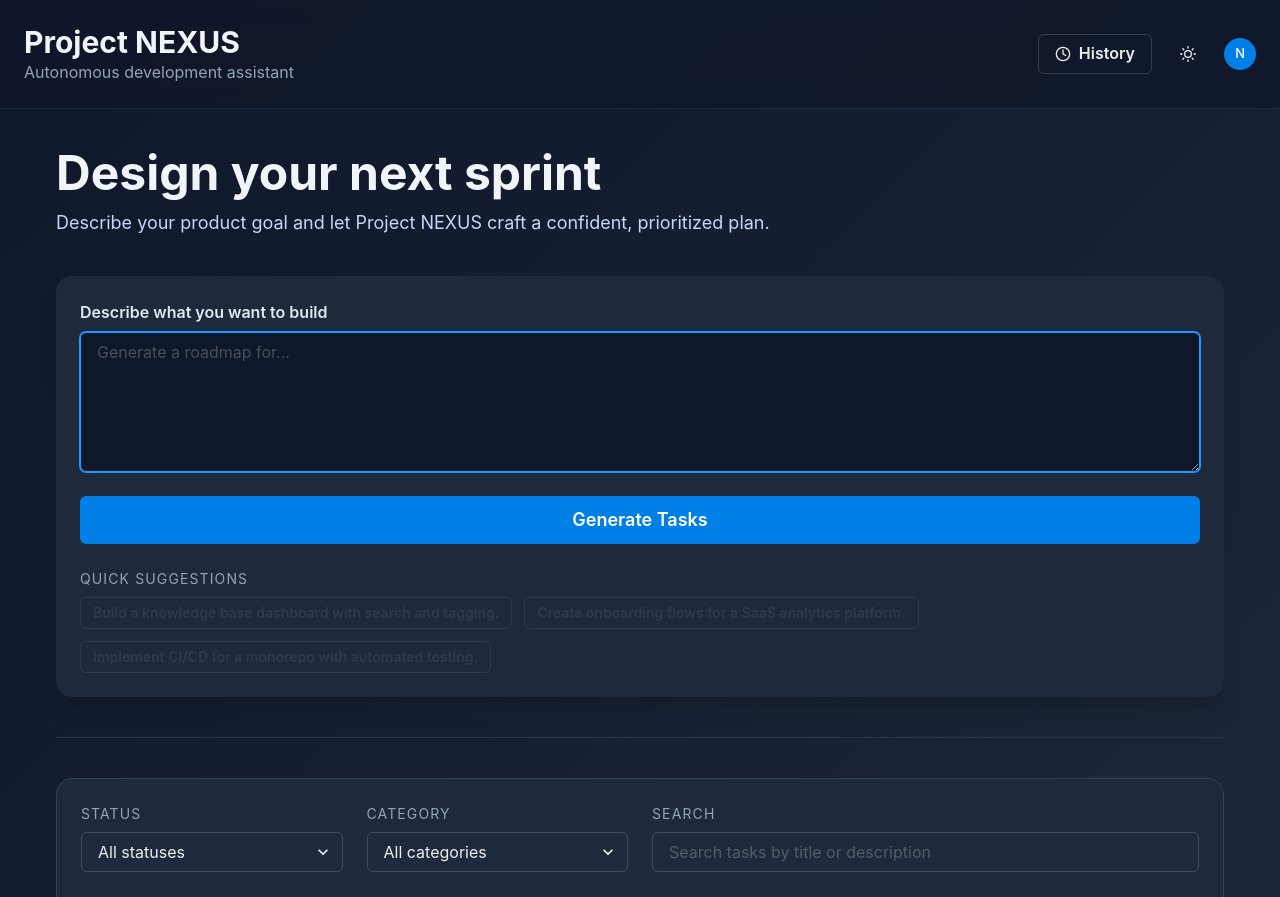
it: Dashboard › submits a prompt and renders tasks from the backend
The width and height of the screenshot is (1280, 897).
Type "Create an AI enabled task planner" into the text box with placeholder "Generate a roadmap for..." at (640, 402), box [80,332,1200,472]
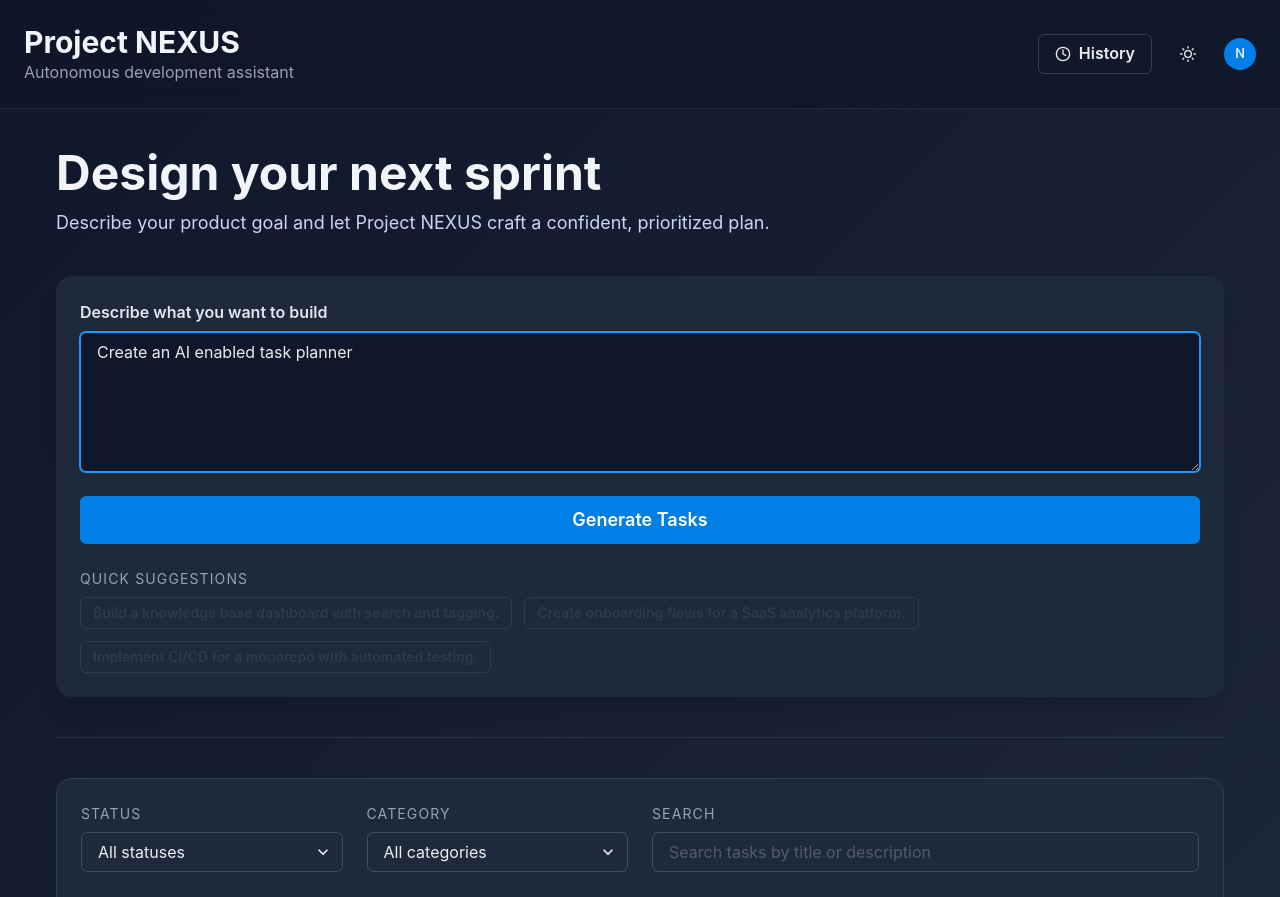
Click the button "Generate Tasks" at (640, 520), box [80,496,1200,544]
(page scrolled)
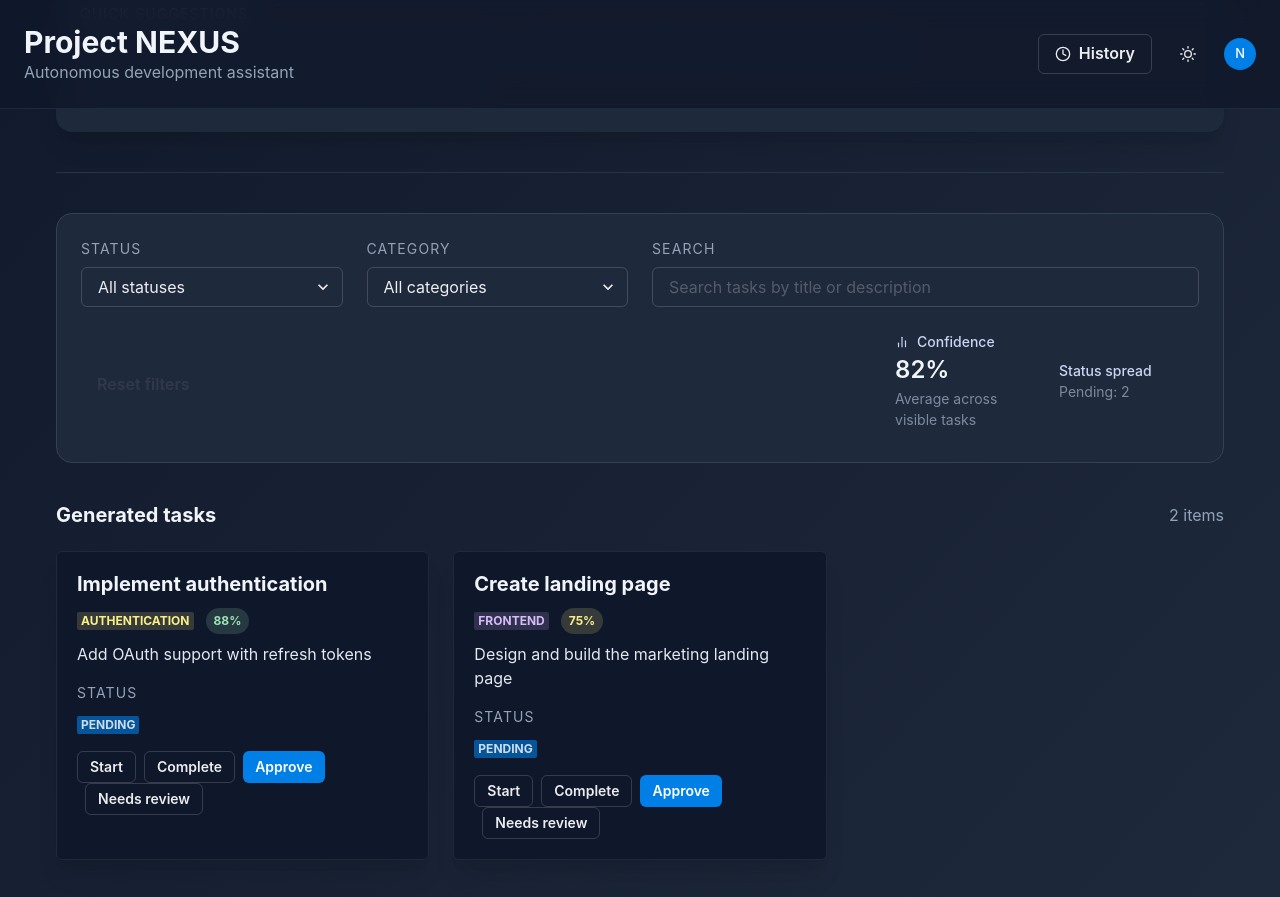
Check: the number of elements with test id "task-card" is 2, box [56,551,429,860]; [453,551,827,860]
Check: the heading "Implement authentication" is shown, box [77,572,328,596]
Check: the heading "Create landing page" is shown, box [474,572,671,596]
